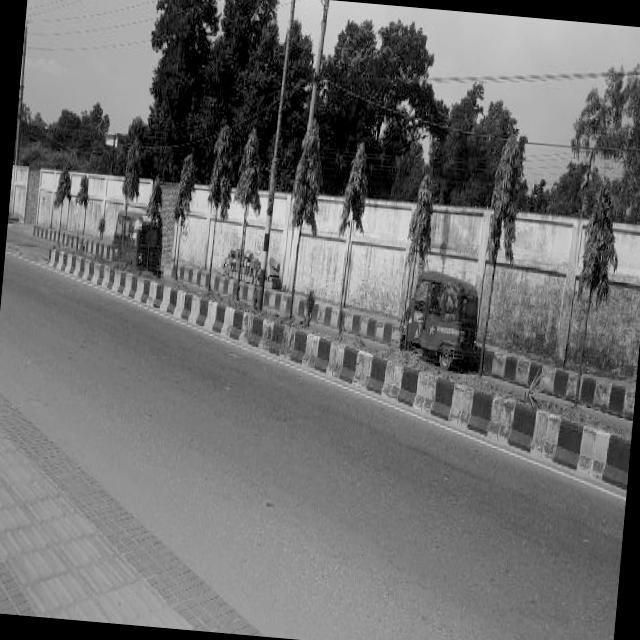motorcycle: (396, 264, 484, 370), (110, 208, 169, 267)
